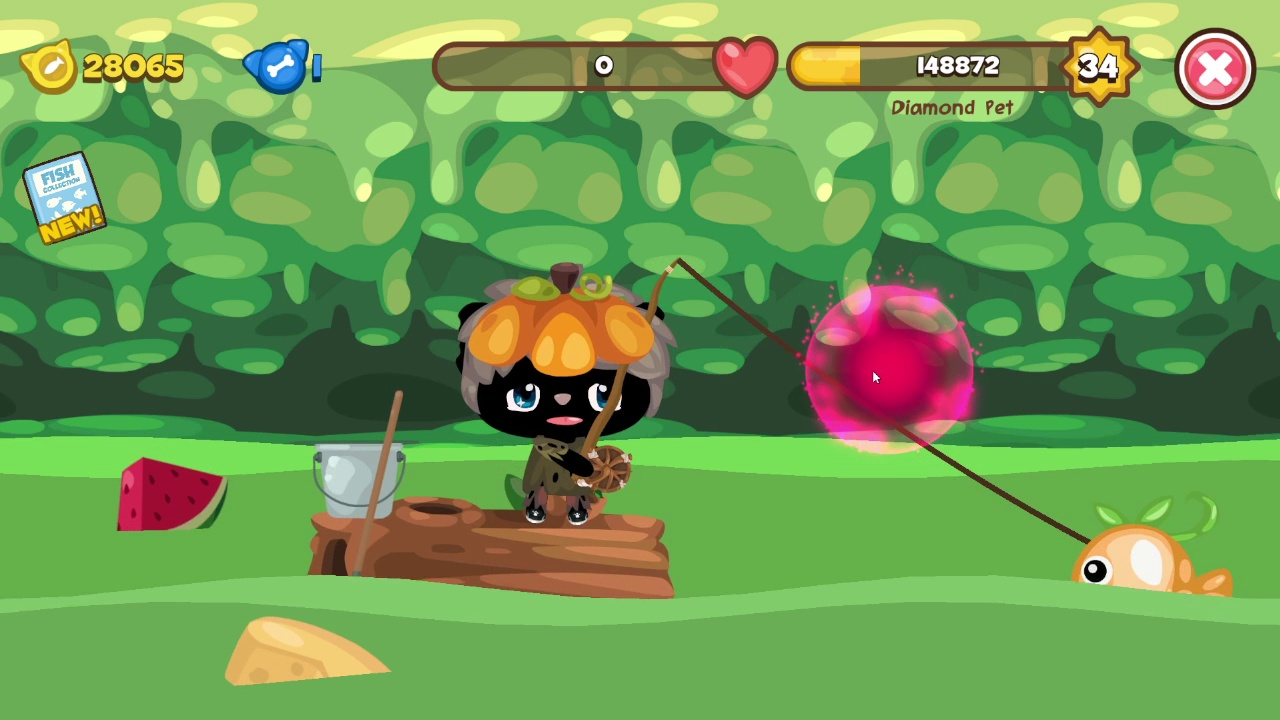point: (801, 282, 978, 456)
